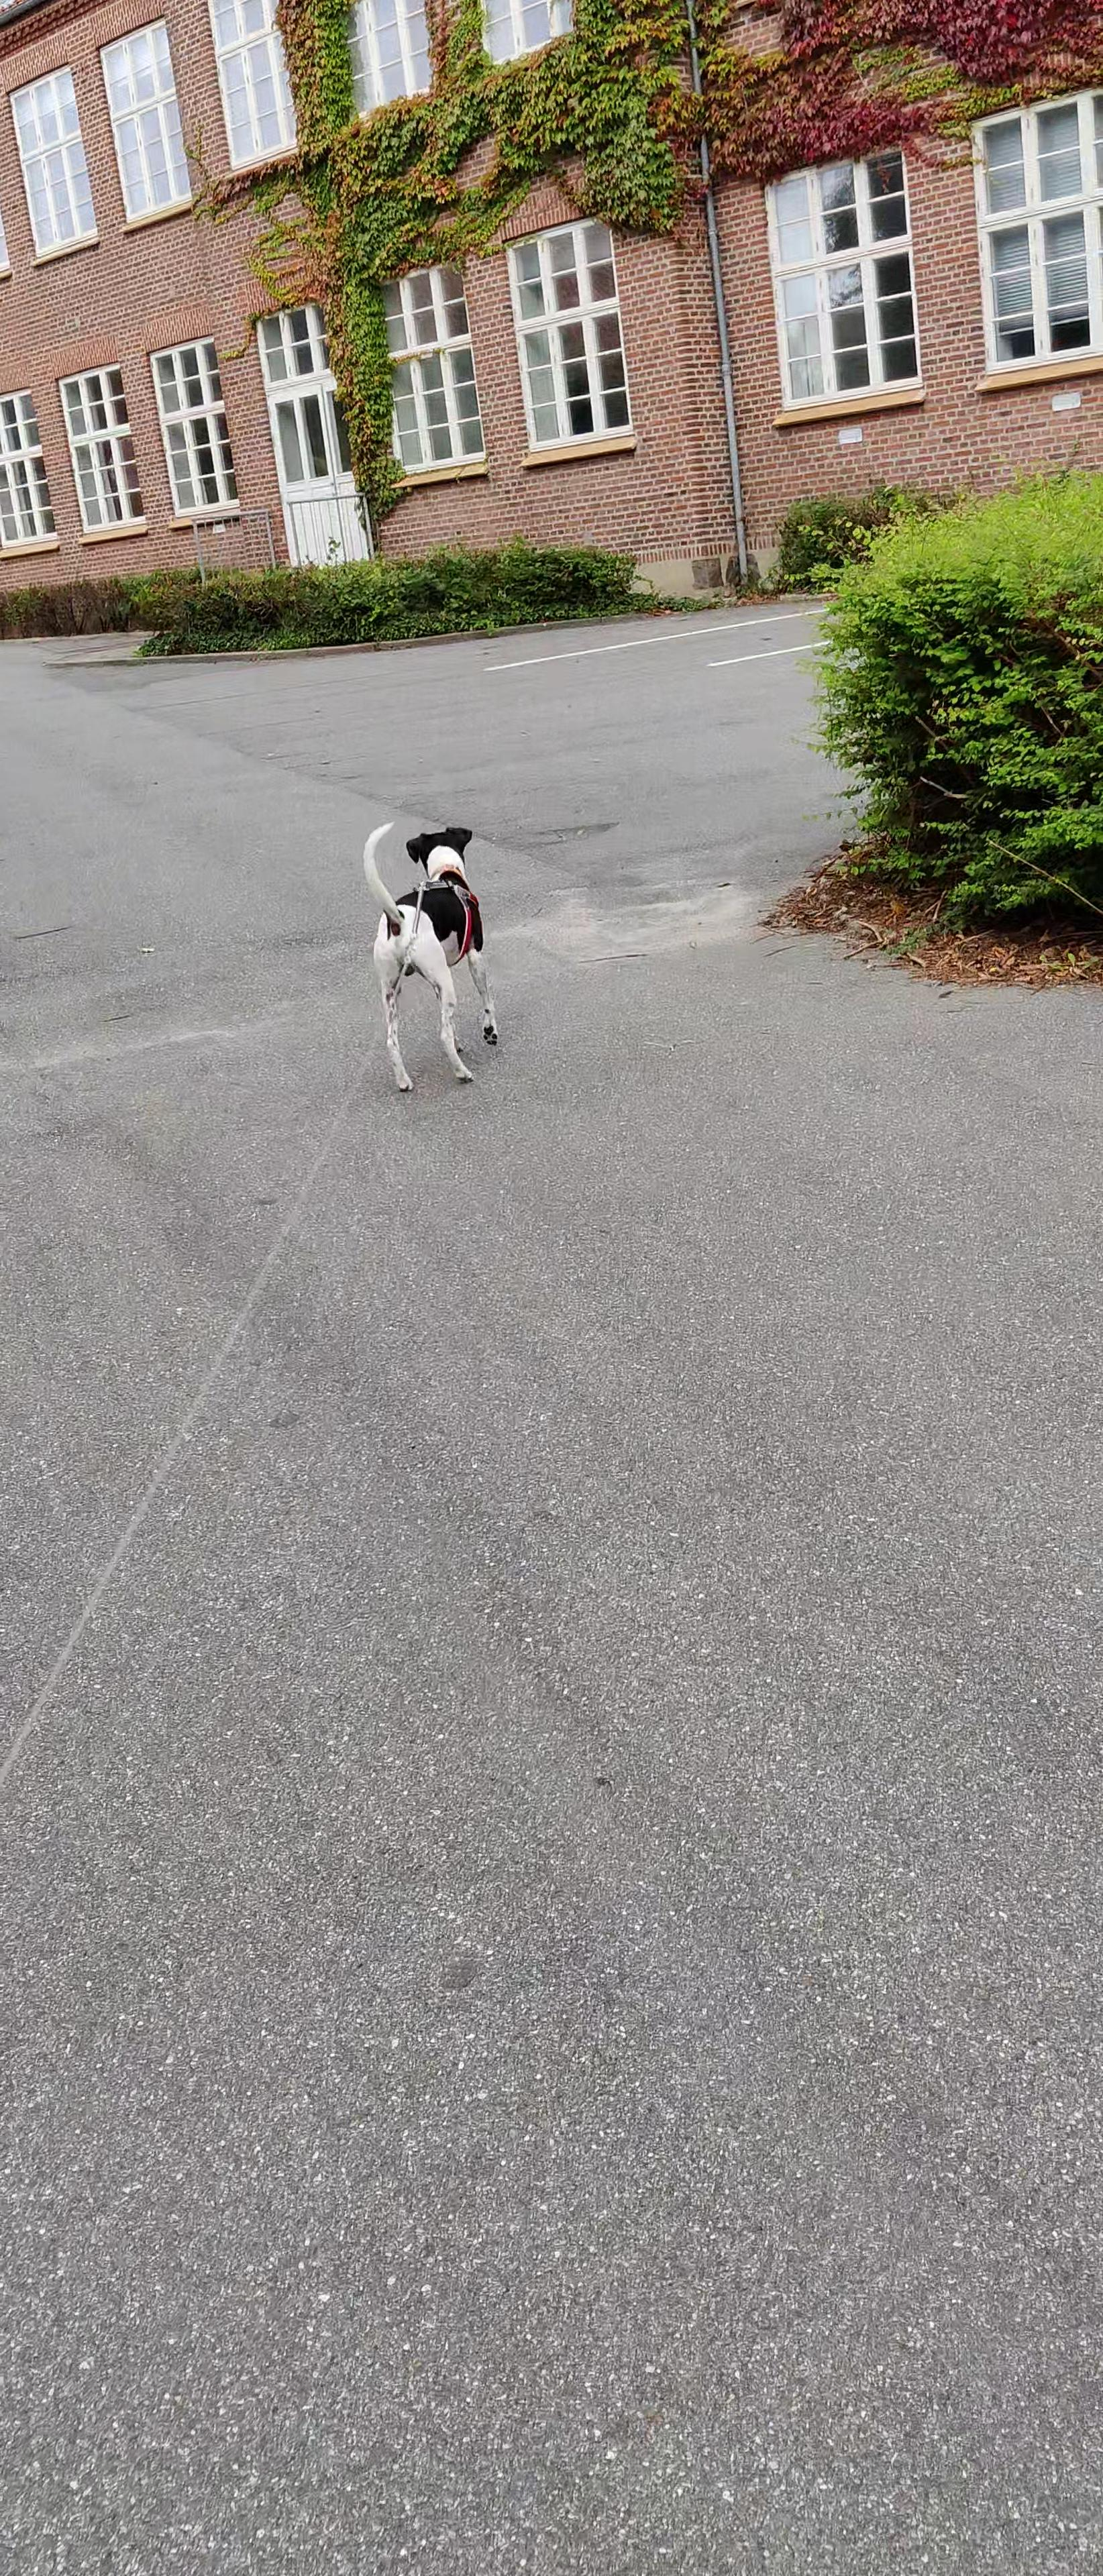Dog: (352, 815, 500, 1094)
